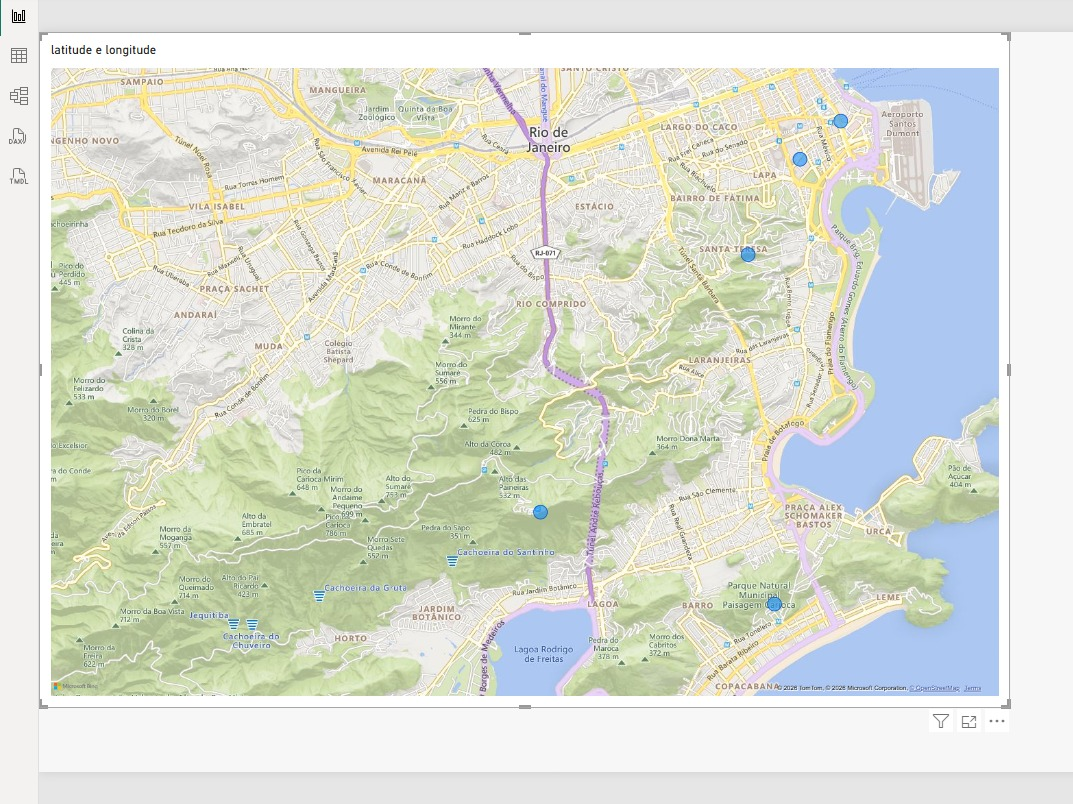

Layout of this report page (visuals, bound fields, positions):
{"tool":"powerbi","page":{"name":"Página 1","canvas":[1920,1080],"ordinal":0},"visuals":[{"type":"map","fields":{"X":["public posicoes_gps.longitude"],"Y":["public posicoes_gps.latitude"]},"box":[496,192.6,669.7,501.9],"z":0}]}

Visuals, with their boxes on the page's 1920x1080 design canvas (x1, y1, x2, y2). These are canvas units, not pixel positions in the 1073x804 screenshot, which may show the page scaled, cropped or inside an application window:
map - public posicoes_gps.longitude x public posicoes_gps.latitude: <bbox>496, 193, 1166, 694</bbox>
